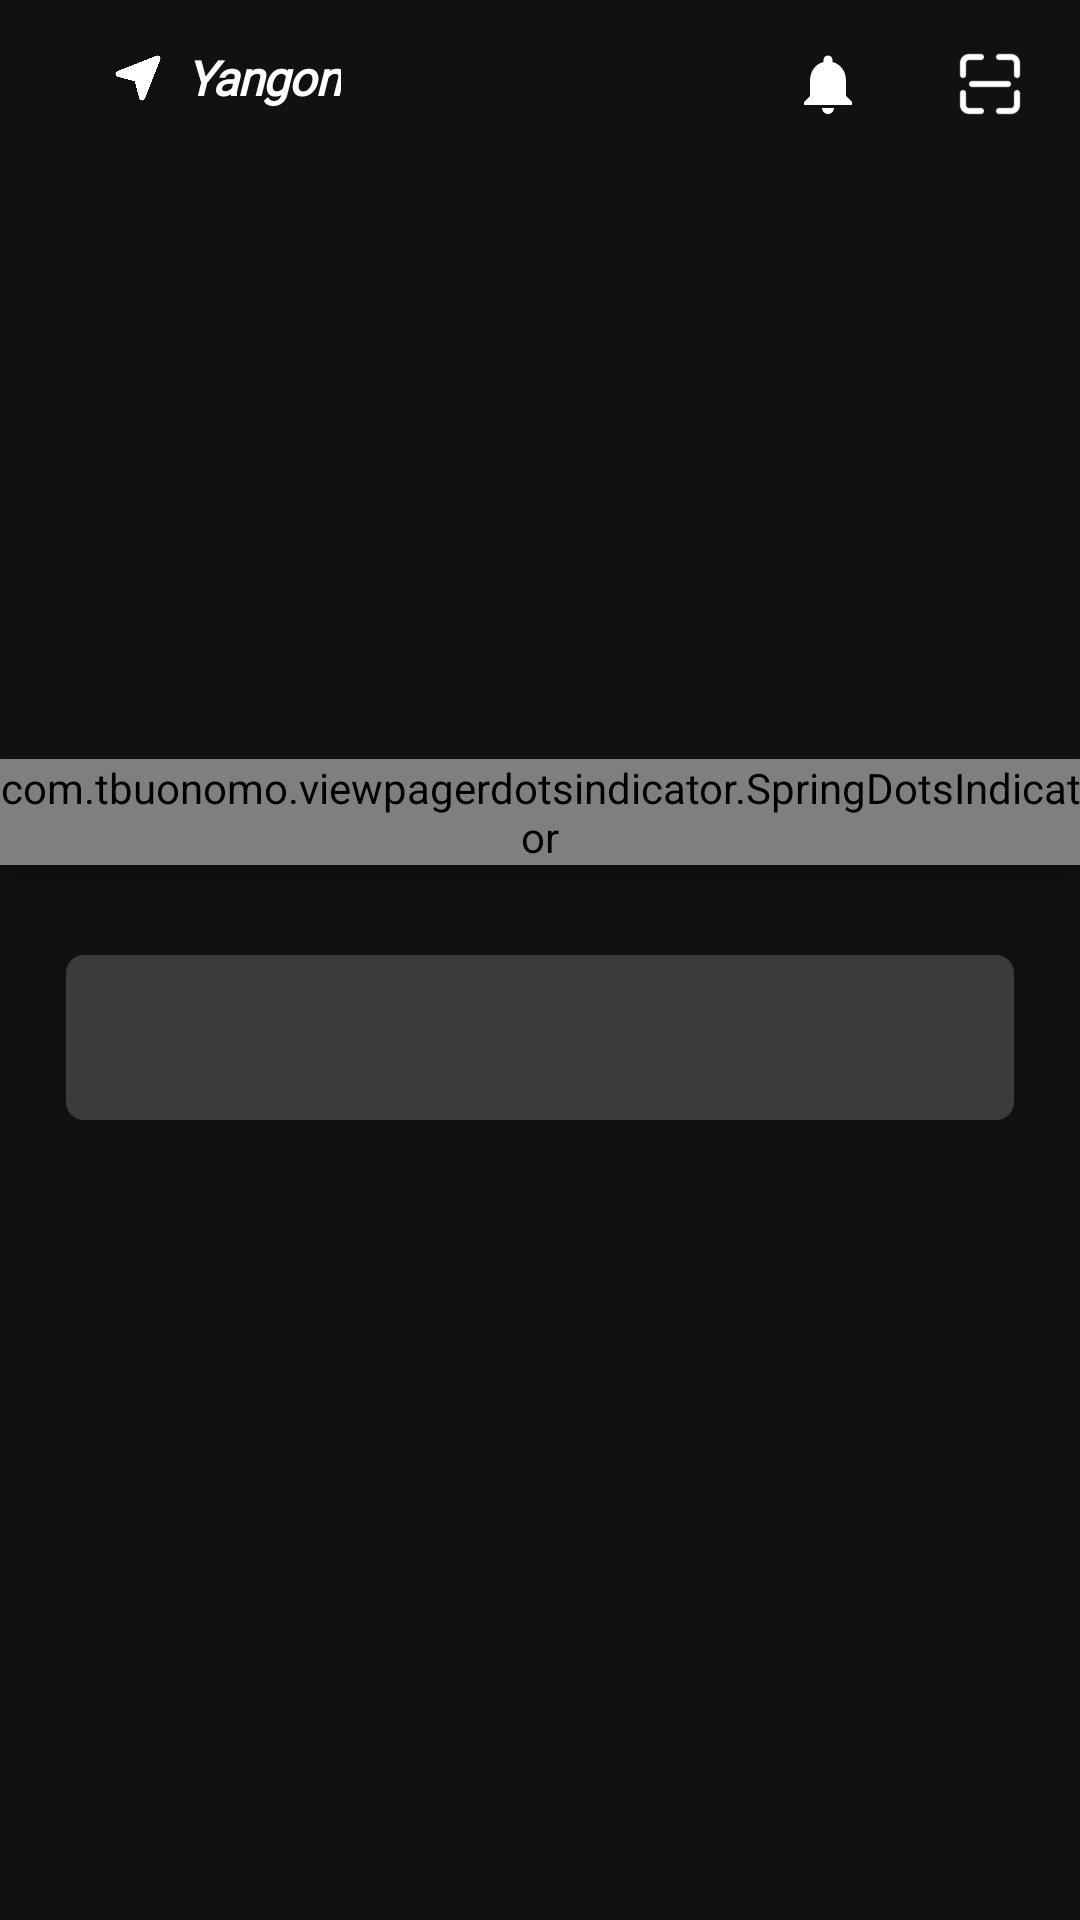

Screen size 1080*1920. Icon name, then its box in pixels as (x1, y1, x2, y2):
navigation: (115, 55, 161, 101)
notifications: (804, 55, 852, 114)
scanning: (959, 53, 1021, 115)
